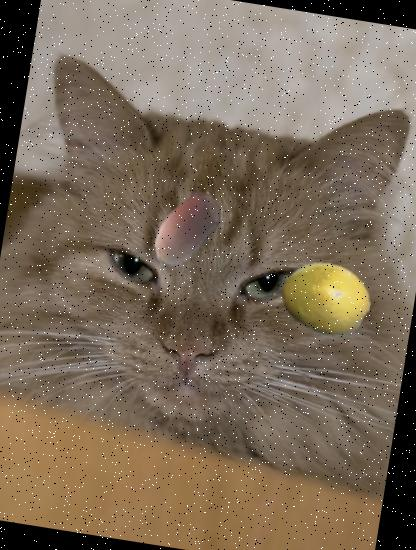Hazelnut: (138, 183, 235, 280)
Maracuja: (275, 248, 378, 352)
